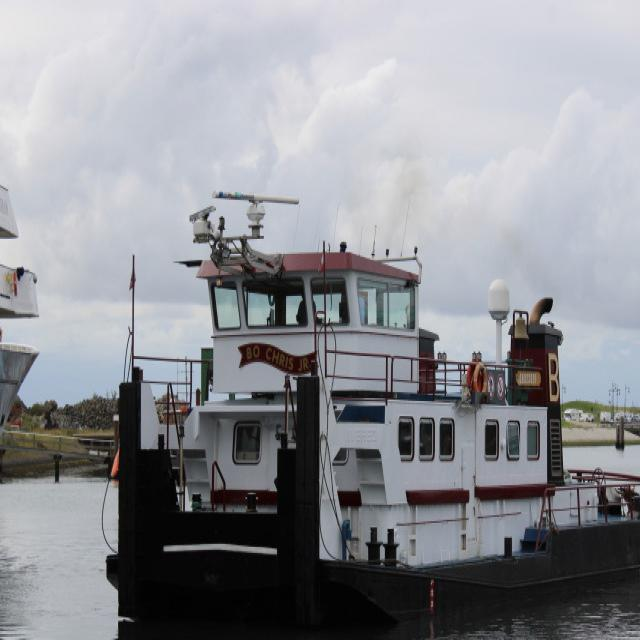tugboat: (106, 186, 640, 620)
